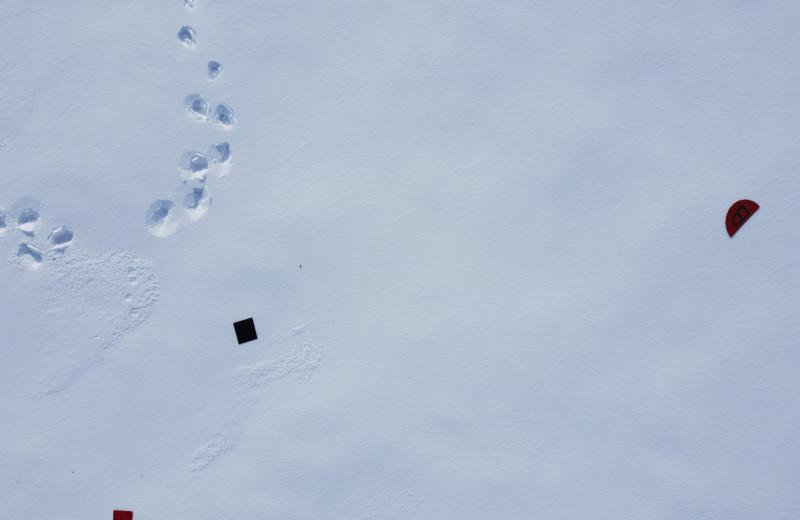Rectangle: (112, 507, 136, 520)
Semi Circle: (724, 197, 762, 241)
Square: (233, 315, 259, 346)
